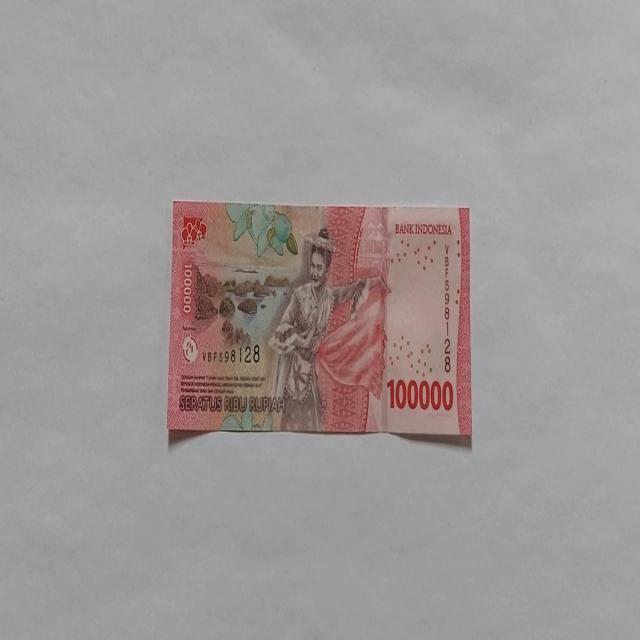Kertas: (166, 199, 472, 441), (386, 376, 454, 412)
